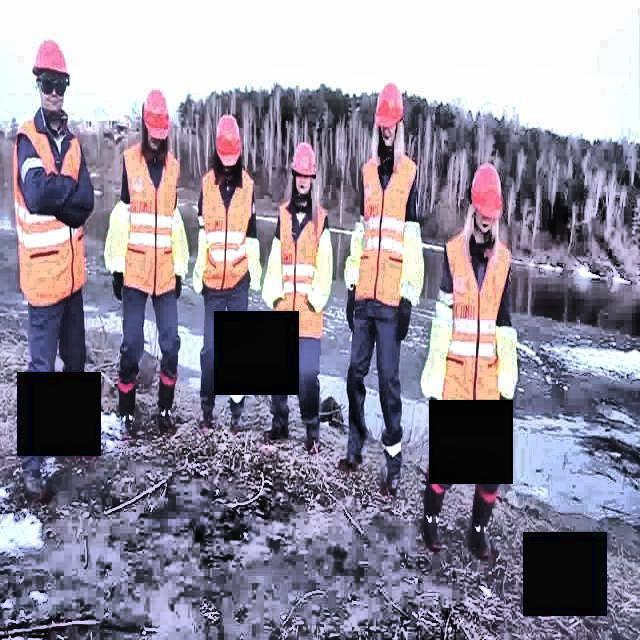safety_helmet: (472, 166, 502, 222), (142, 89, 170, 143), (32, 39, 70, 76), (216, 116, 240, 168), (373, 84, 402, 127), (290, 143, 314, 177)
safety_jacket: (14, 116, 88, 312), (439, 231, 512, 412), (352, 153, 419, 307), (122, 146, 180, 298), (269, 206, 329, 342), (200, 168, 253, 290)
